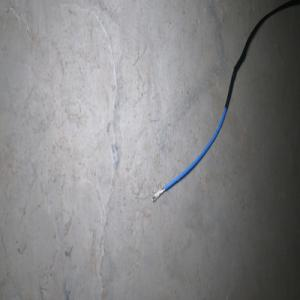Wire: (151, 0, 300, 202)
